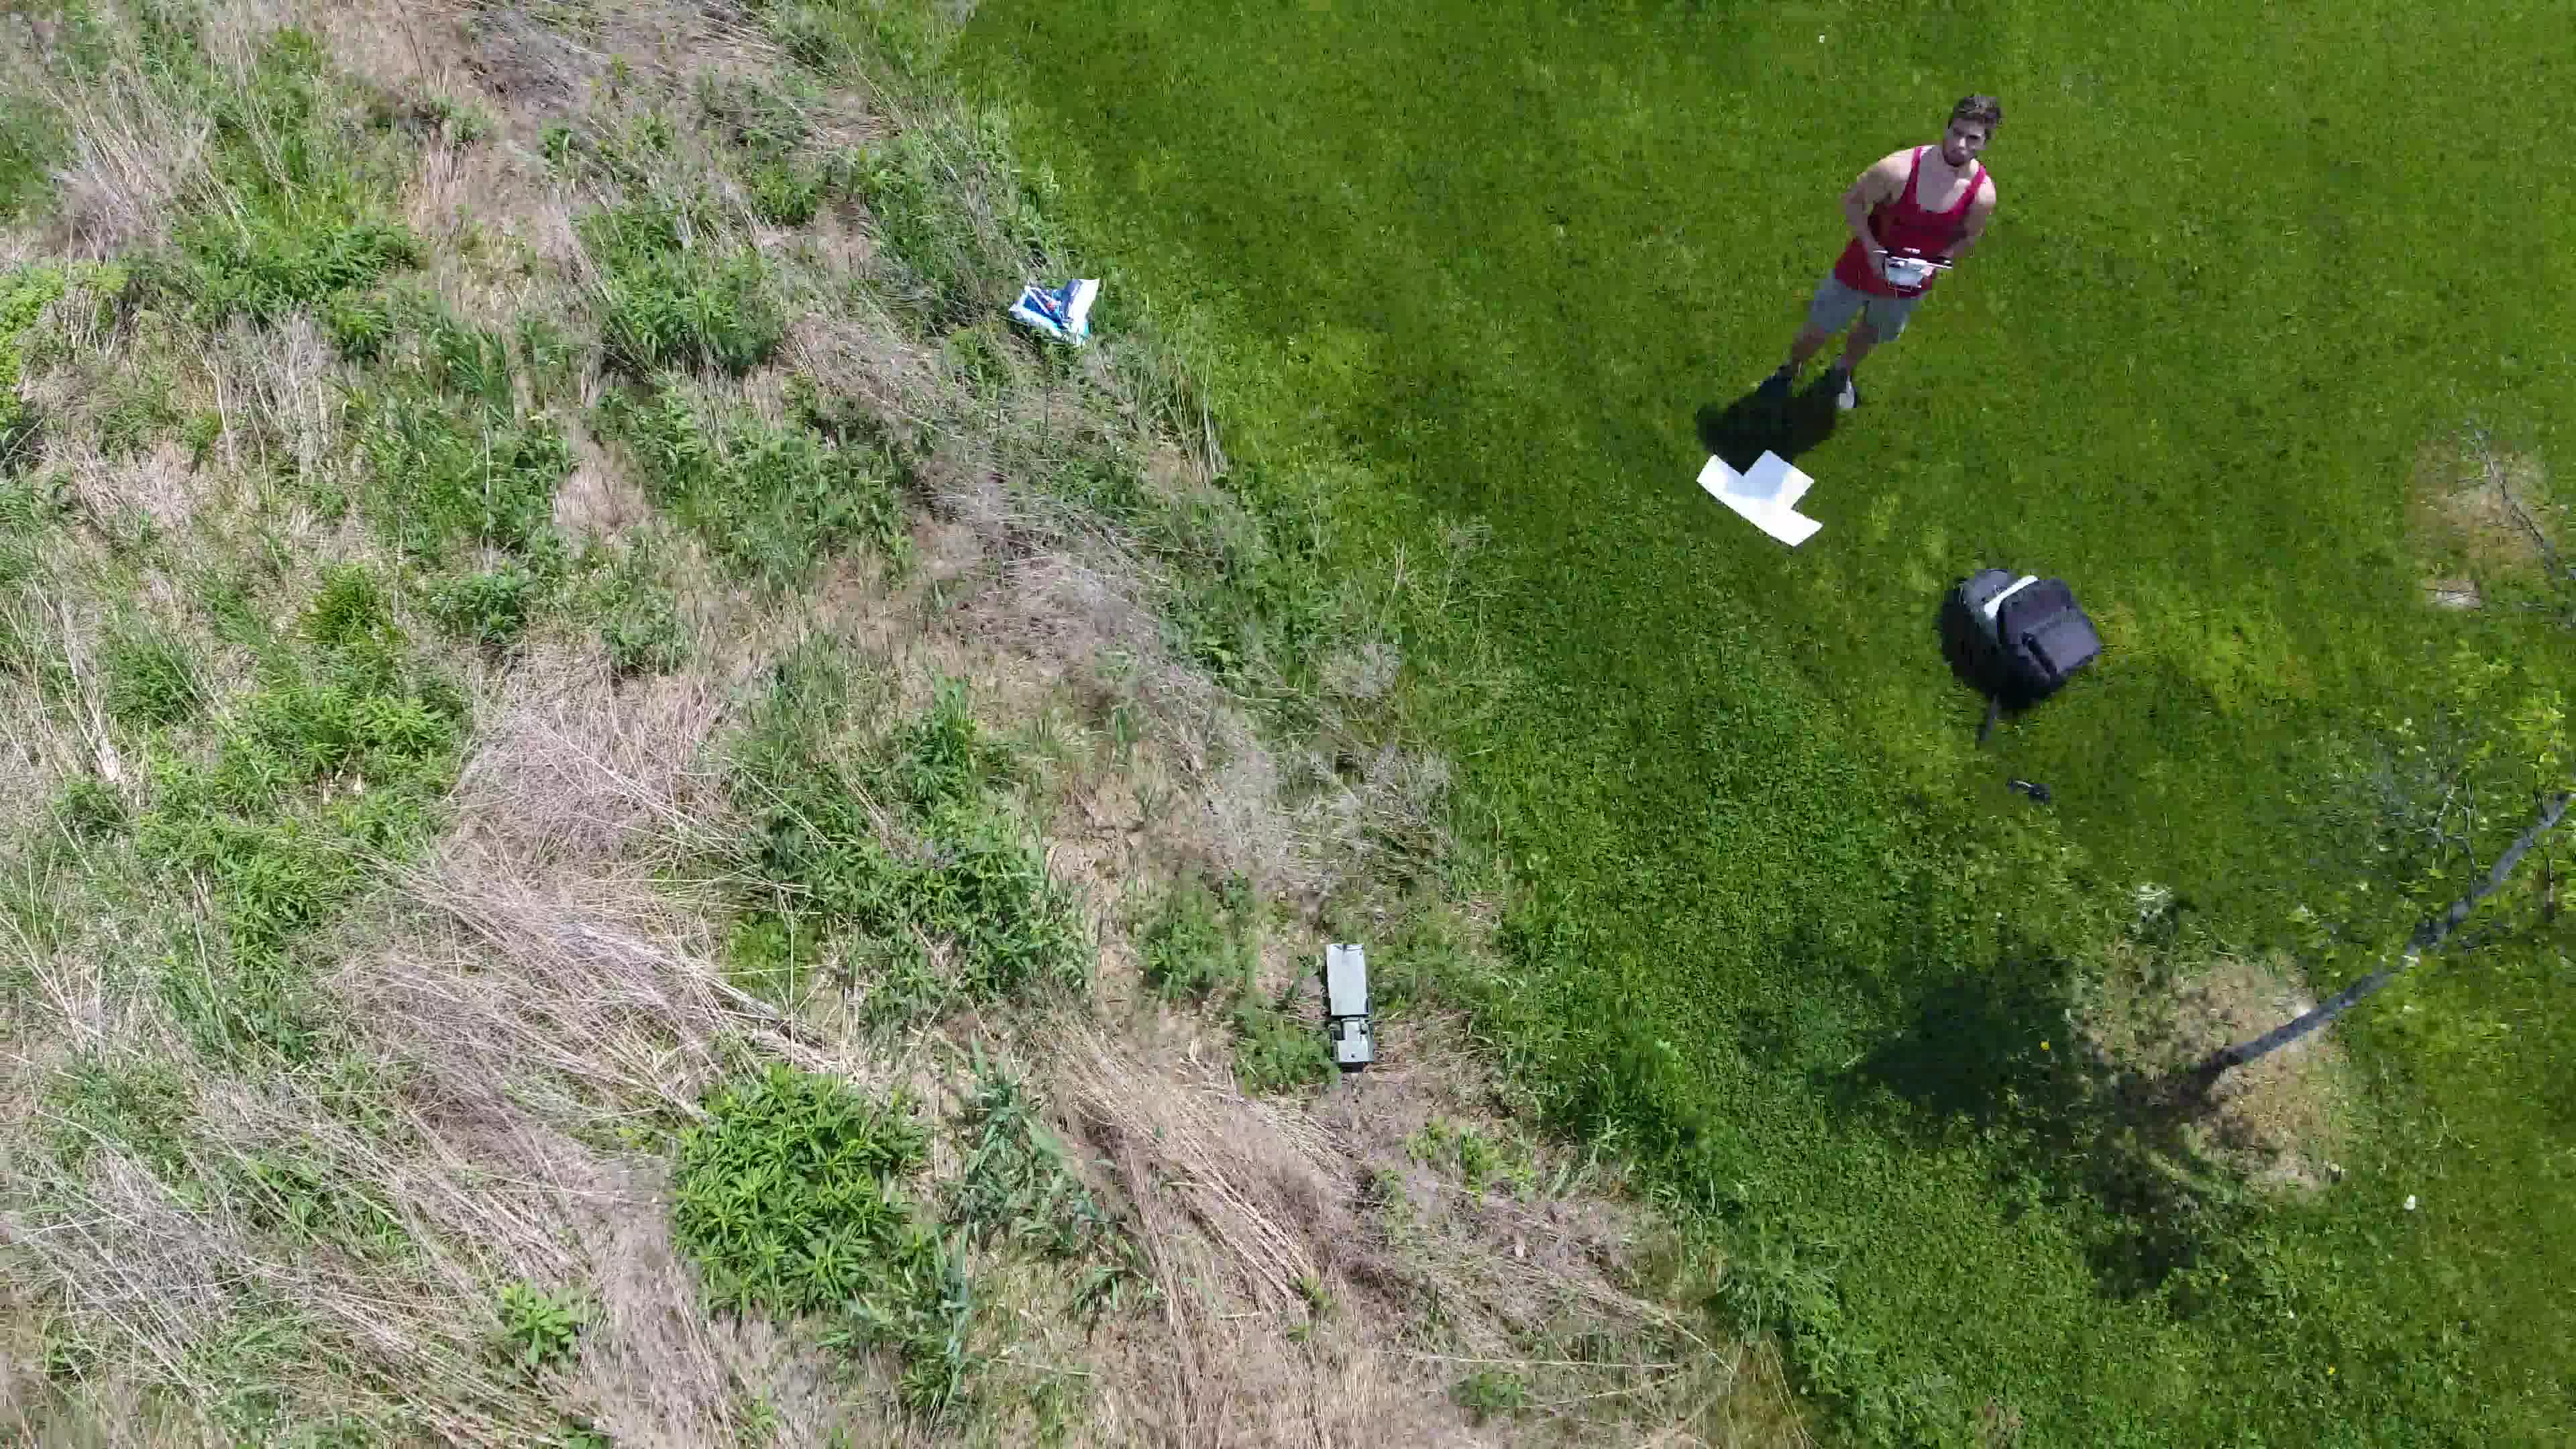transporter9: (1322, 936, 1375, 1070)
